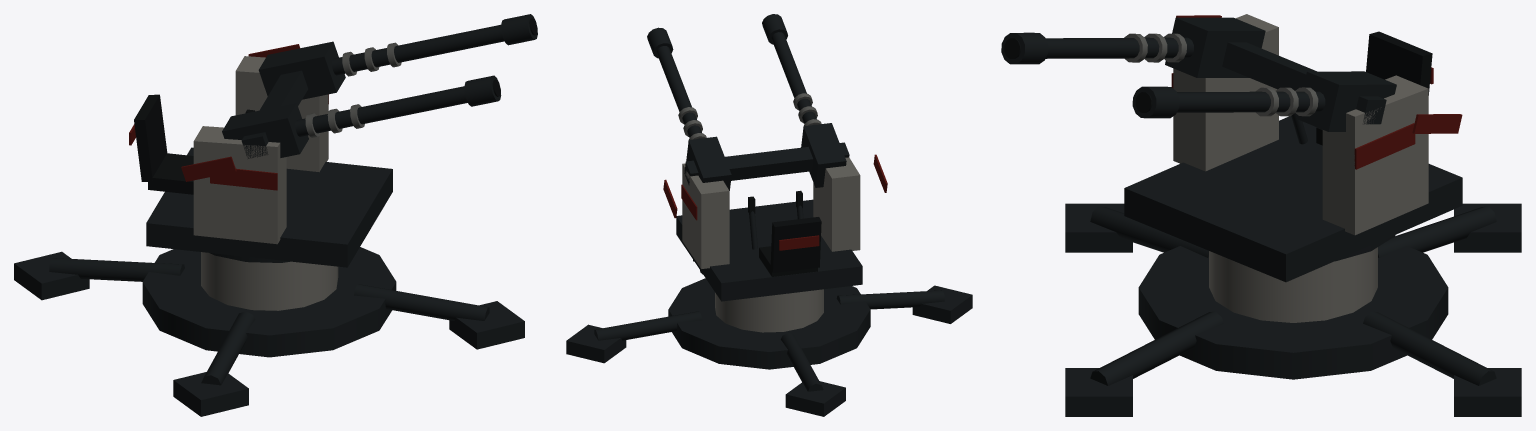
3 views of the same model, side by side, from view 1: azimuth 30°, elevation 25°; view 2: azimuth 150°, elevation 25°; view 3: azimuth 270°, elevation 25° (orthographic). The views are drawn at different scales.
Visible parts, largest first — view 1: aa-gun-manned-fleet-machine, turret-fleet-machine, turret-fleet-armor, aa-barrel-right-fleet-machine, aa-barrel-left-fleet-machine, aa-gun-manned-fleet-armor, turret-fleet-rubber, elevation-fleet-machine, turret-fleet-red, elevation-fleet-red, aa-barrel-right-fleet-edge, aa-barrel-left-fleet-edge; view 2: aa-gun-manned-fleet-machine, turret-fleet-machine, turret-fleet-armor, aa-gun-manned-fleet-armor, aa-barrel-left-fleet-machine, aa-barrel-right-fleet-machine, turret-fleet-rubber, elevation-fleet-machine, turret-fleet-red, elevation-fleet-red, aa-barrel-left-fleet-edge, aa-barrel-right-fleet-edge; view 3: aa-gun-manned-fleet-machine, turret-fleet-machine, turret-fleet-armor, aa-gun-manned-fleet-armor, aa-barrel-left-fleet-machine, aa-barrel-right-fleet-machine, elevation-fleet-machine, turret-fleet-rubber, turret-fleet-red, elevation-fleet-red, aa-barrel-left-fleet-edge, aa-barrel-right-fleet-edge.
Boxes of the visible parts, x1,y1,x2,y2 form: aa-gun-manned-fleet-machine: [14, 247, 524, 416]; turret-fleet-machine: [146, 147, 392, 267]; turret-fleet-armor: [193, 56, 328, 244]; aa-barrel-right-fleet-machine: [258, 14, 537, 99]; aa-barrel-left-fleet-machine: [222, 75, 501, 157]; aa-gun-manned-fleet-armor: [201, 252, 338, 310]; turret-fleet-rubber: [134, 94, 254, 194]; elevation-fleet-machine: [241, 70, 307, 158]; turret-fleet-red: [129, 94, 328, 190]; elevation-fleet-red: [181, 44, 299, 181]; aa-barrel-right-fleet-edge: [342, 42, 401, 76]; aa-barrel-left-fleet-edge: [305, 104, 364, 137]; aa-gun-manned-fleet-machine: [566, 260, 972, 416]; turret-fleet-machine: [676, 199, 862, 301]; turret-fleet-armor: [682, 157, 860, 268]; aa-gun-manned-fleet-armor: [715, 289, 823, 332]; aa-barrel-left-fleet-machine: [762, 14, 846, 187]; aa-barrel-right-fleet-machine: [647, 27, 731, 190]; turret-fleet-rubber: [748, 190, 821, 276]; elevation-fleet-machine: [684, 142, 849, 185]; turret-fleet-red: [681, 184, 819, 250]; elevation-fleet-red: [663, 154, 887, 218]; aa-barrel-left-fleet-edge: [793, 93, 821, 126]; aa-barrel-right-fleet-edge: [678, 107, 706, 141]; aa-gun-manned-fleet-machine: [1065, 203, 1521, 416]; turret-fleet-machine: [1124, 113, 1462, 282]; turret-fleet-armor: [1173, 14, 1428, 235]; aa-gun-manned-fleet-armor: [1209, 247, 1377, 322]; aa-barrel-left-fleet-machine: [1001, 17, 1265, 77]; aa-barrel-right-fleet-machine: [1132, 71, 1396, 131]; elevation-fleet-machine: [1222, 42, 1386, 124]; turret-fleet-rubber: [1316, 31, 1432, 145]; turret-fleet-red: [1171, 67, 1433, 169]; elevation-fleet-red: [1176, 15, 1462, 133]; aa-barrel-left-fleet-edge: [1124, 33, 1186, 62]; aa-barrel-right-fleet-edge: [1255, 87, 1318, 116].
Bounding box in the file's own units: 19.28 × 14.29 × 19.13.
